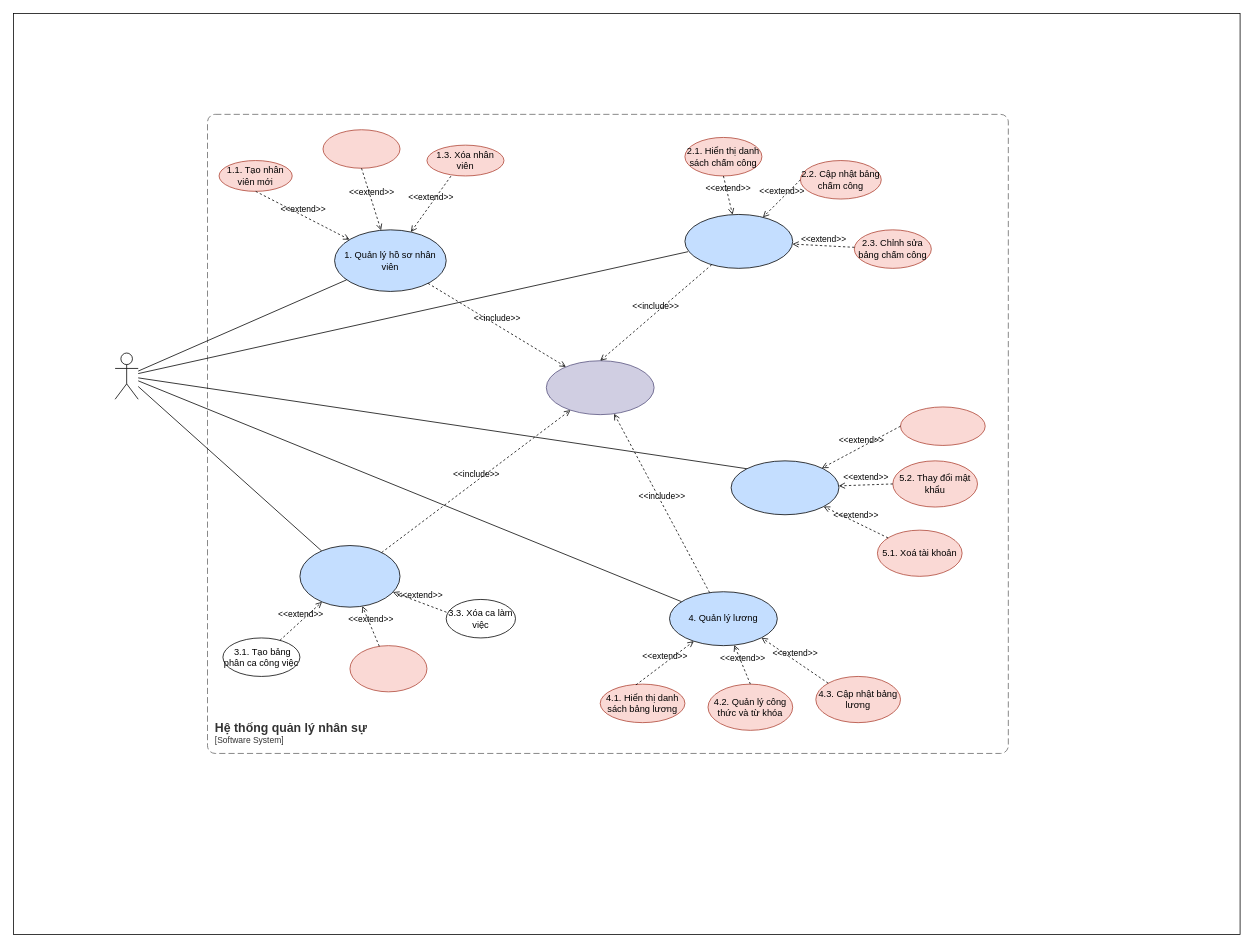
Some shapes in this 1254 by 948 pixel diagram are drawn without their labels. The shapes that lost their labels are listed below. From the top down, each one's centre as x and y in pixels, then its label:
At (x=361, y=148): "1.2. Sửa thông tin nhân viên".
At (x=738, y=241): "2. Quản lý chấm công".
At (x=126, y=375): "Quản lý".
At (x=600, y=387): "Đăng nhập".
At (x=942, y=425): "5.3 Đăng xuất".
At (x=784, y=487): "5. Quản lý tài khoản".
At (x=349, y=576): "3. Quản lý phân ca".
At (x=388, y=668): "3.2. Sửa bảng ca làm việc".
